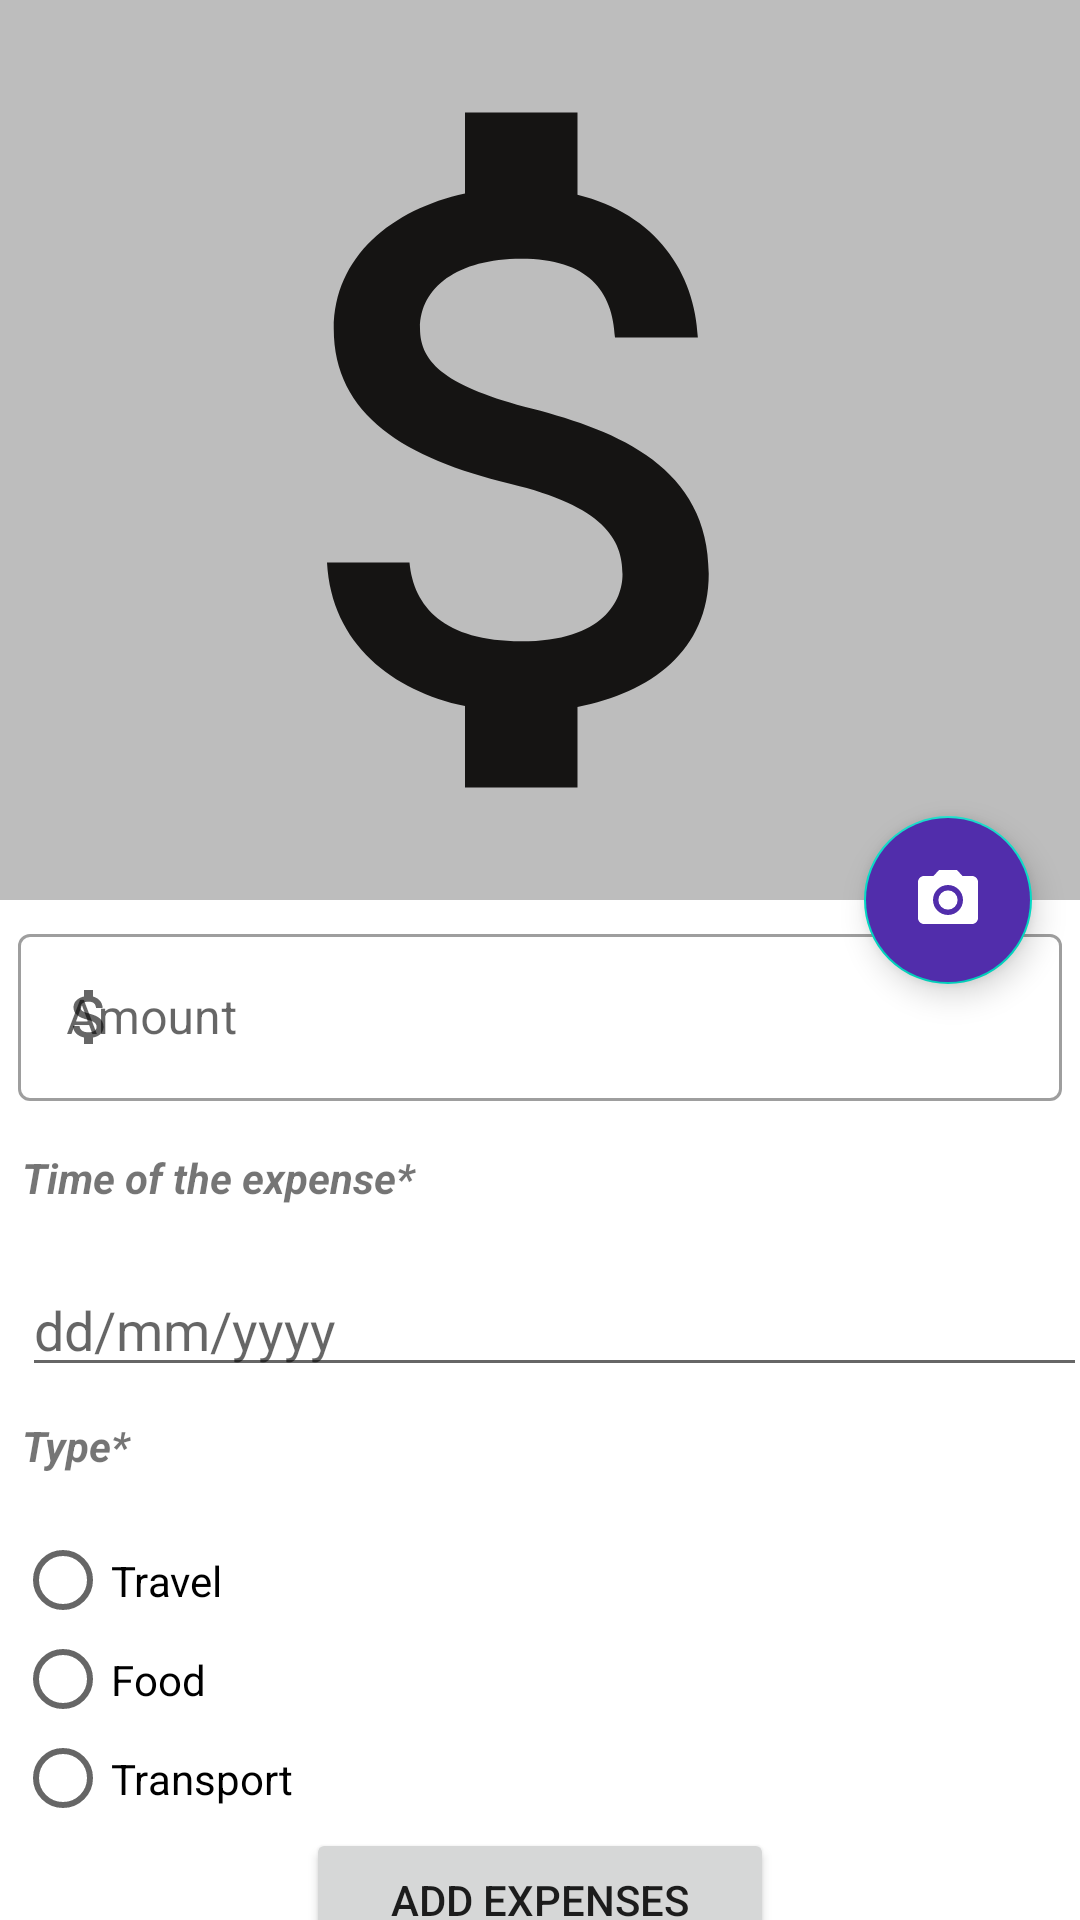

Icons on this 1080×1920 Android screen, each with the point to tap as [x,y]:
camera: [948,900]
